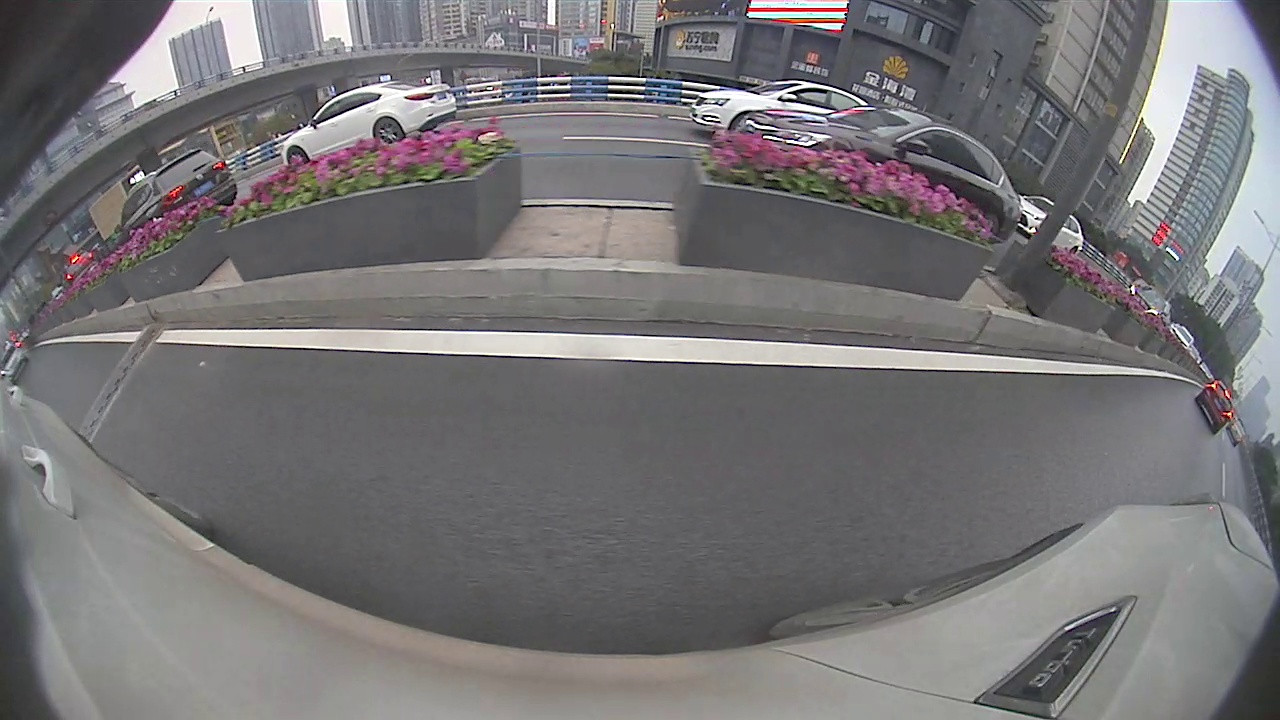car: (1194, 379, 1236, 438)
front: (288, 145, 308, 165)
rear: (373, 118, 404, 143)
